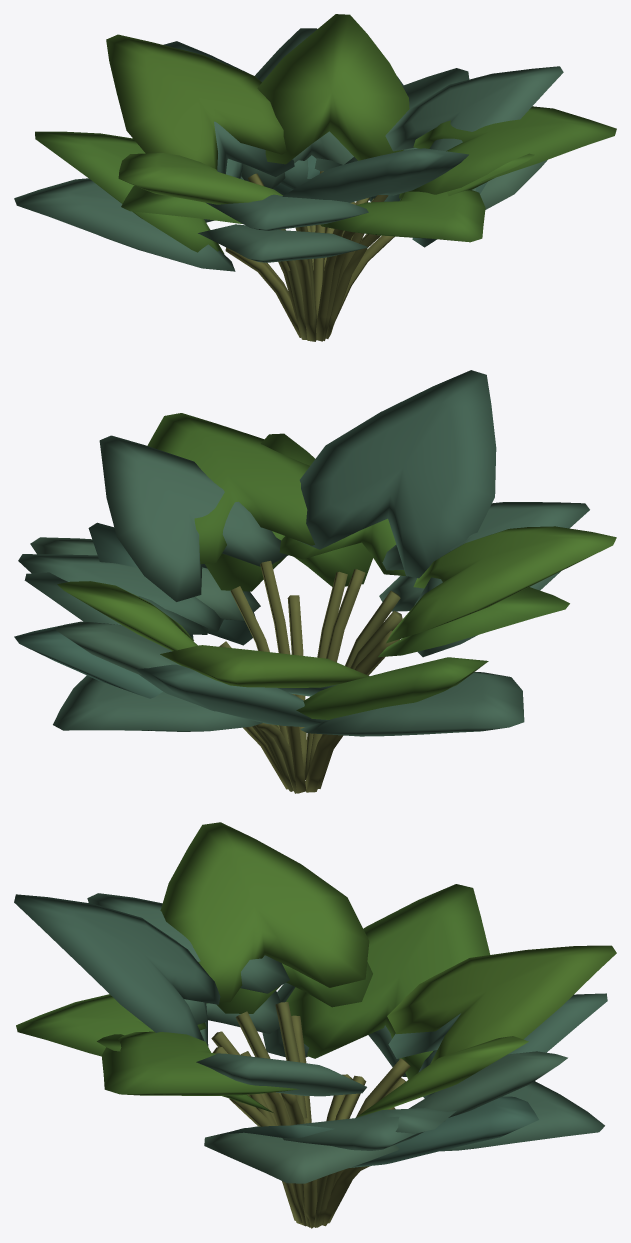
File: bed_hosta_blue.glb
3 renders of one model, top to bottom at view 1: azimuth 30°, elevation 25°; view 2: azimuth 150°, elevation 25°; view 3: azimuth 270°, elevation 25°, orthographic. The views are drawn at different scales.
Visible parts, largest first — view 1: Sammel Pflanze, Sammel Putz; view 2: Sammel Pflanze, Sammel Putz; view 3: Sammel Pflanze, Sammel Putz.
Part boxes in pixels (<box>): Sammel Pflanze: <box>14,14,616,271</box>; Sammel Putz: <box>225,171,394,341</box>; Sammel Pflanze: <box>14,370,616,736</box>; Sammel Putz: <box>219,560,402,793</box>; Sammel Pflanze: <box>14,822,616,1183</box>; Sammel Putz: <box>211,1002,410,1228</box>.
Bounding box in the file's own units: 0.5263 × 0.2838 × 0.4998.
